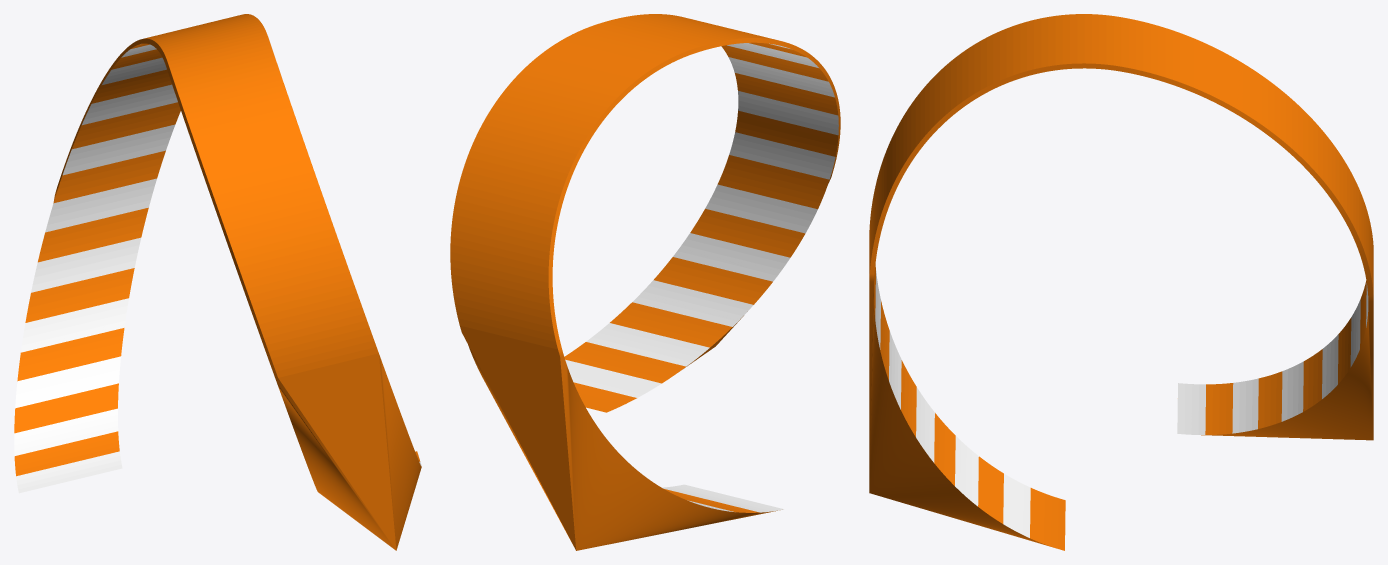
The model's file is TheDONUT.fbx.
3 renders of one model, left to right at view 1: azimuth 30°, elevation 25°; view 2: azimuth 150°, elevation 25°; view 3: azimuth 270°, elevation 25°, orthographic. The views are drawn at different scales.
Parts seen in each view (by area): view 1: TheDONUT; view 2: TheDONUT; view 3: TheDONUT.
Boxes of the visible parts, box(x1,y1,x2,y2) form: TheDONUT: box(14, 14, 421, 550); TheDONUT: box(450, 14, 840, 550); TheDONUT: box(869, 14, 1373, 550).
Size of the model in its own units: 1074 by 1268 by 1363.
1 material, 1 textured.
